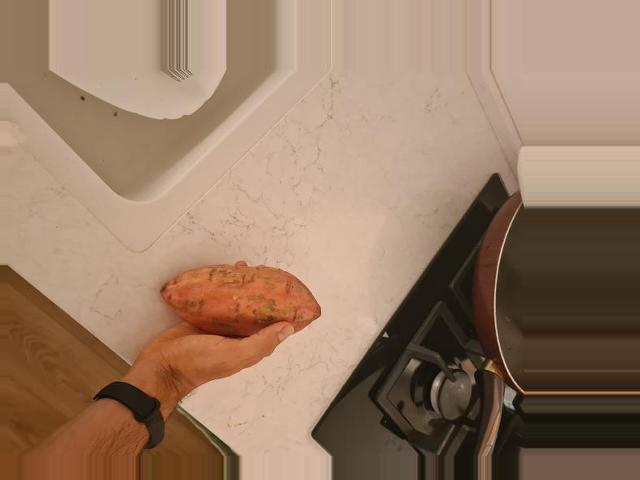sweet_potato: (159, 269, 316, 335)
